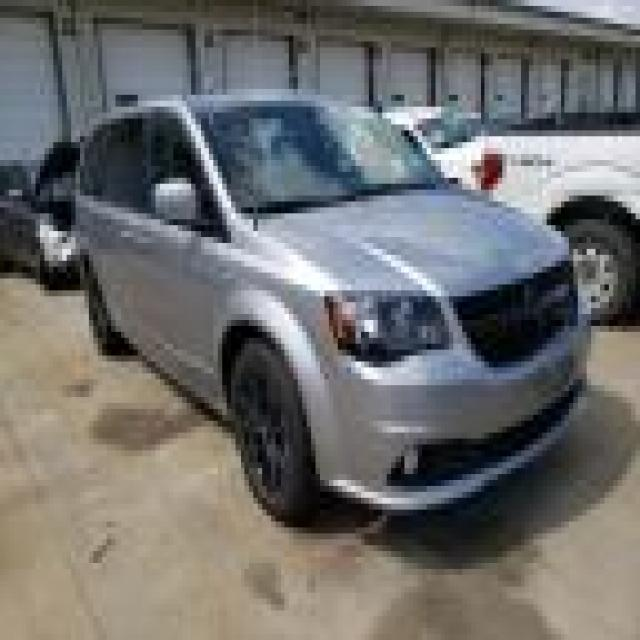minor: (311, 82, 444, 236)
